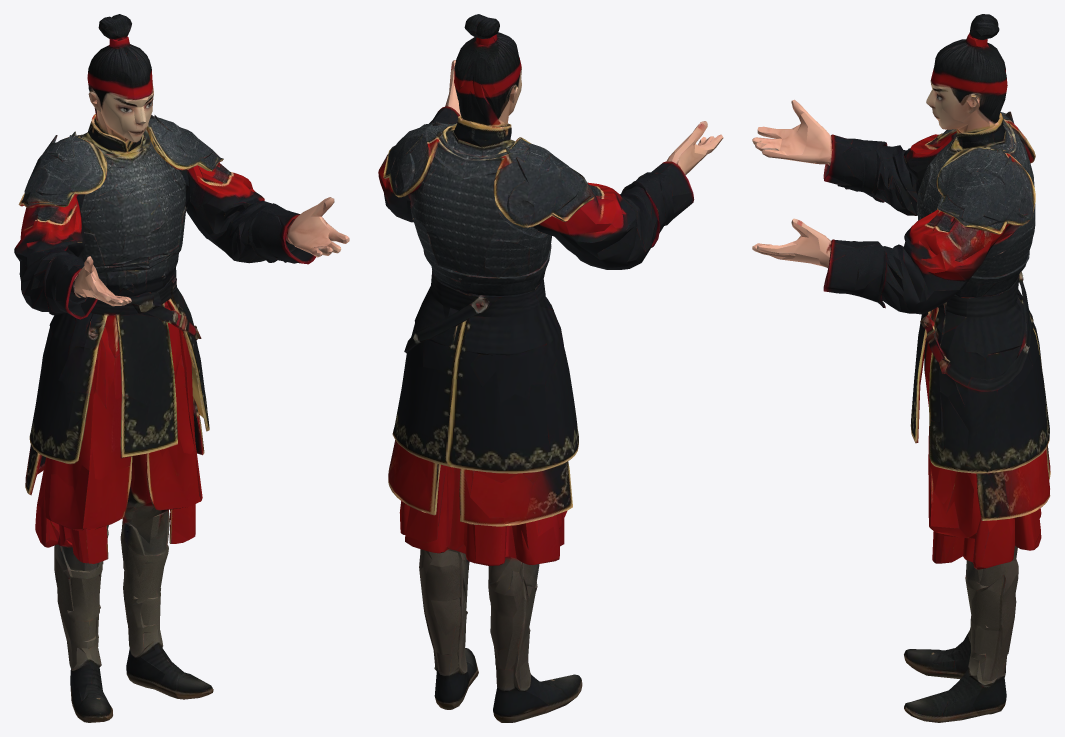
File: char_H35_tran-quoc-toan.glb
The picture shows the model from 3 angles, left to right: view 1: azimuth 30°, elevation 25°; view 2: azimuth 150°, elevation 25°; view 3: azimuth 270°, elevation 25°; orthographic projection. The views are drawn at different scales.
Bounding box in the file's own units: 0.752 × 1.9 × 0.7579.
1 material, 1 textured.
